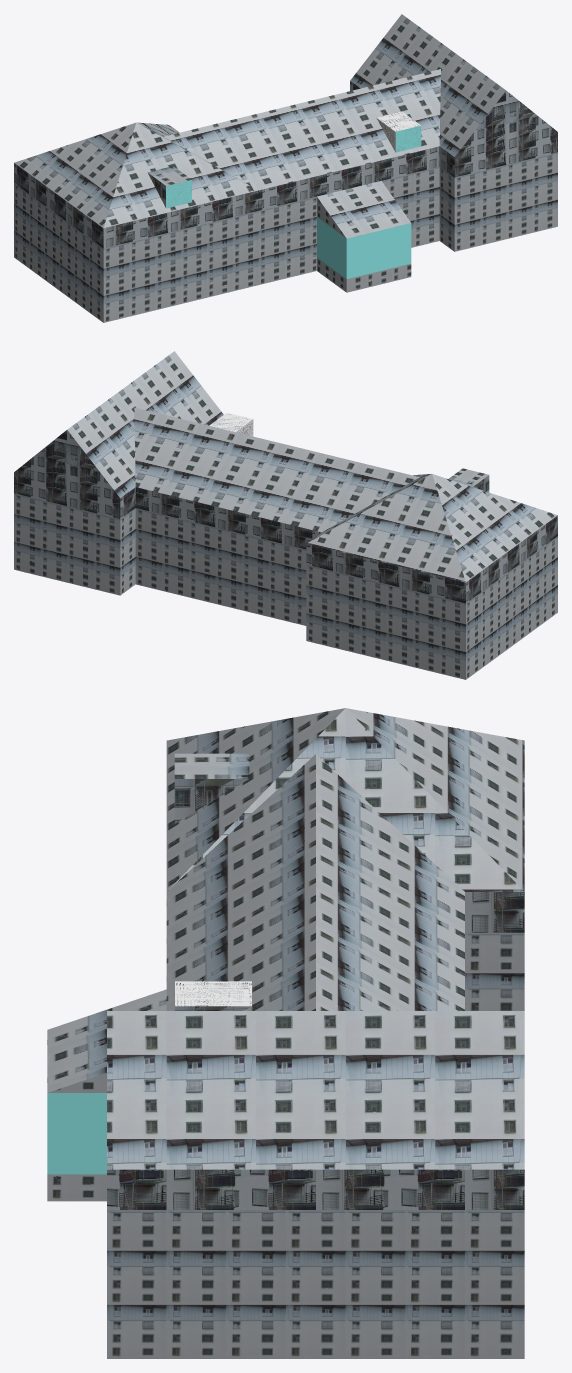
File: KoPf_Empfang_Peter_lod3.dae
3 views of the same model, one above another, from view 1: azimuth 30°, elevation 25°; view 2: azimuth 150°, elevation 25°; view 3: azimuth 270°, elevation 25° (orthographic). The views are drawn at different scales.
Parts seen in each view (by area): view 1: SketchUp (×9); view 2: SketchUp (×5); view 3: SketchUp (×8).
Boxes of the visible parts, x1=… form: SketchUp (×9): x1=14, y1=14, x2=557, y2=322; SketchUp (×5): x1=14, y1=351, x2=557, y2=679; SketchUp (×8): x1=47, y1=708, x2=524, y2=1358.
Bounding box in the file's own units: 1339 × 630 × 433.
